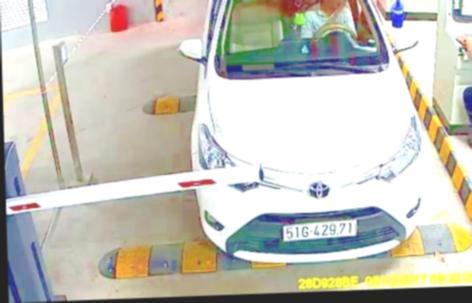License_Plate: (279, 215, 361, 245)
